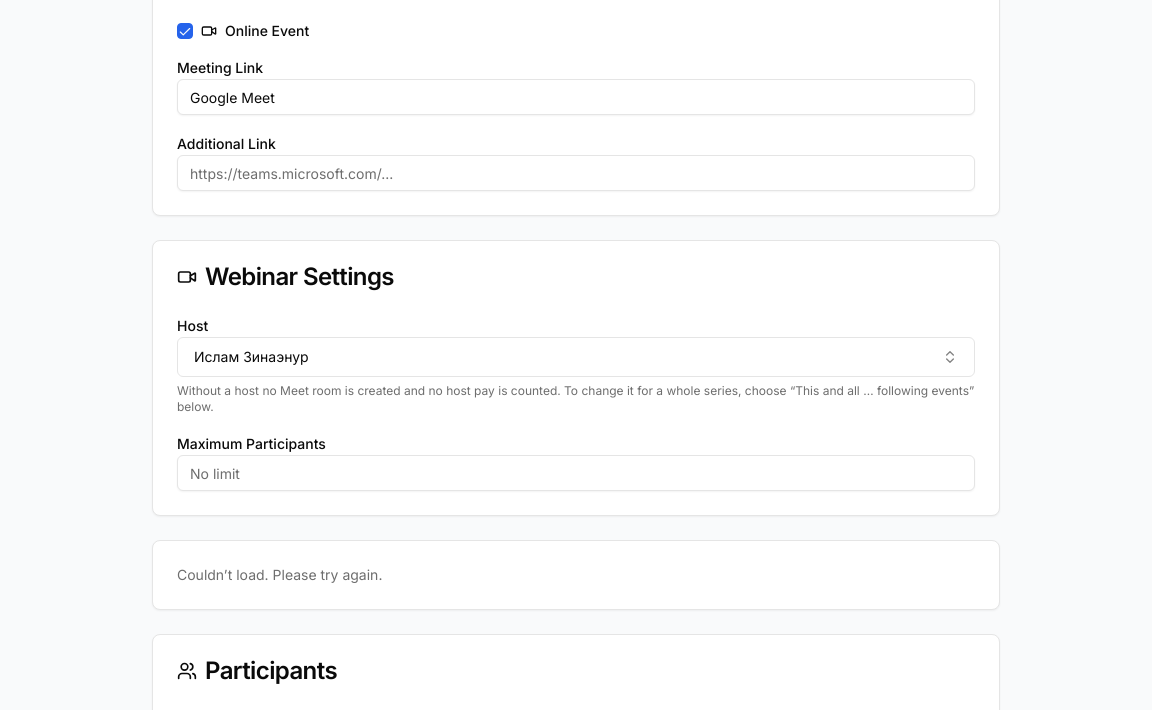
Test: event form: who runs the event › warns when the chosen host has no Workspace account, and not before
(page scrolled)
Click the dropdown with id "teacher_id". click: (251, 356)
box: top-left (177, 337), bottom-right (975, 377)
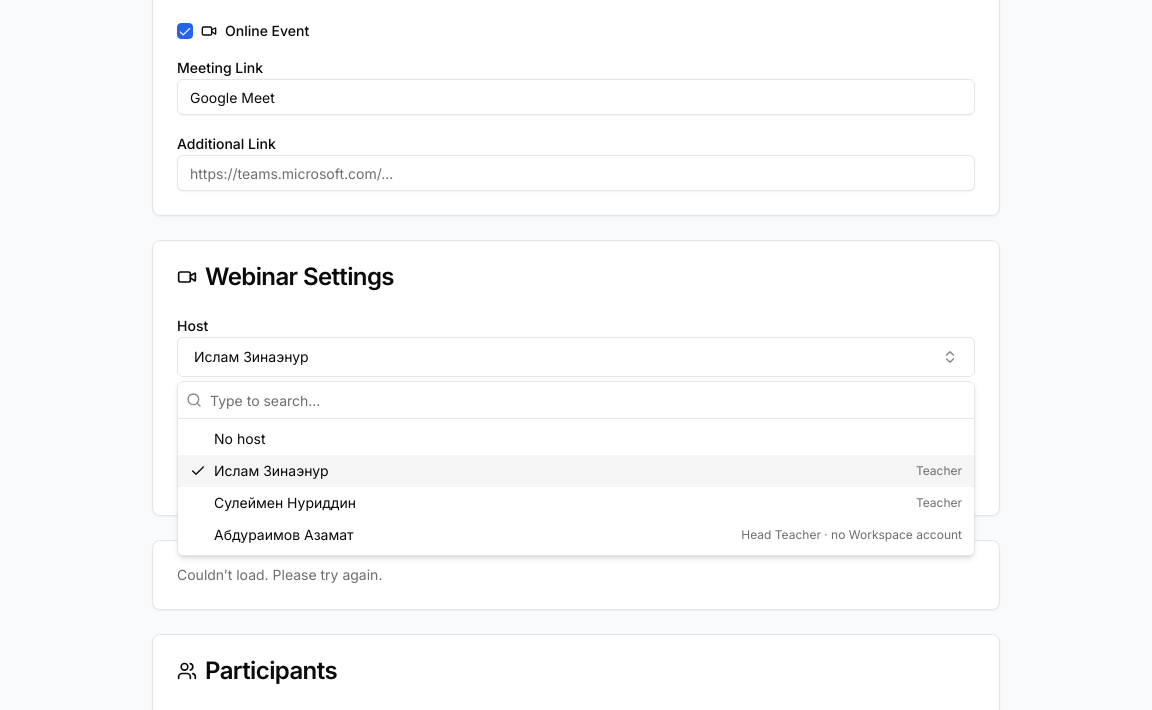
Click the option "Абдураимов Азамат Head Teacher · no Workspace account". click: (284, 534)
box: top-left (178, 519), bottom-right (974, 551)
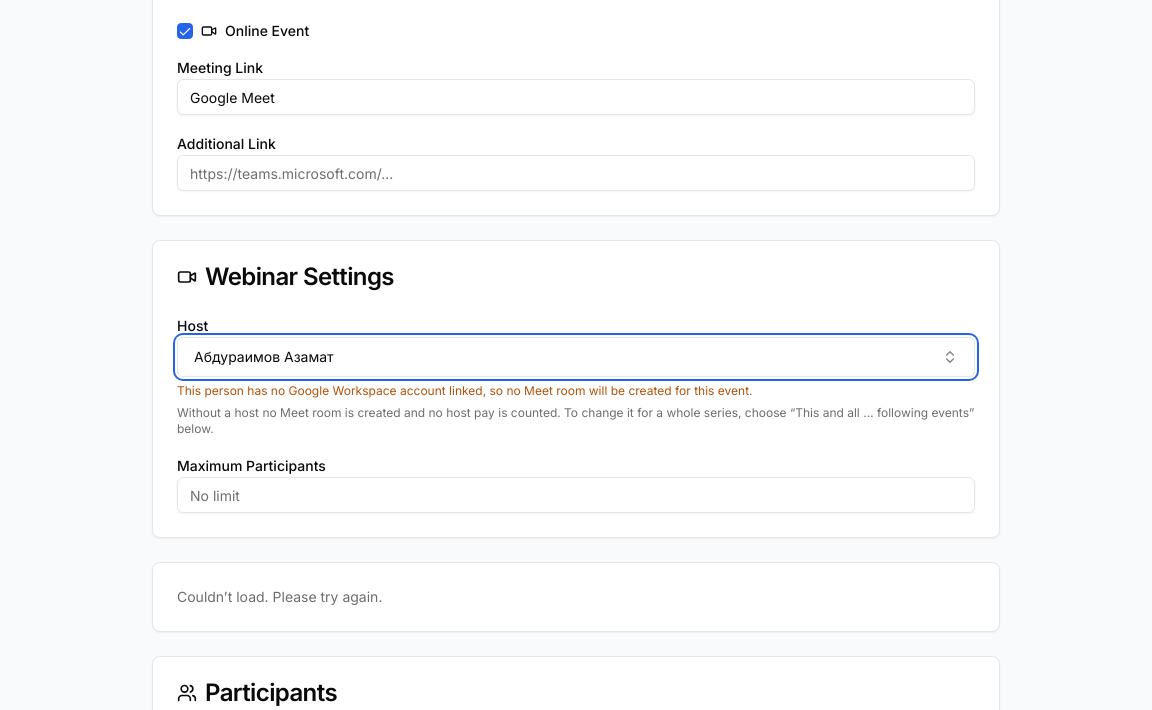
expect the text "no Meet room will be created for this event" is shown: met, box top-left (177, 383), bottom-right (752, 398)
